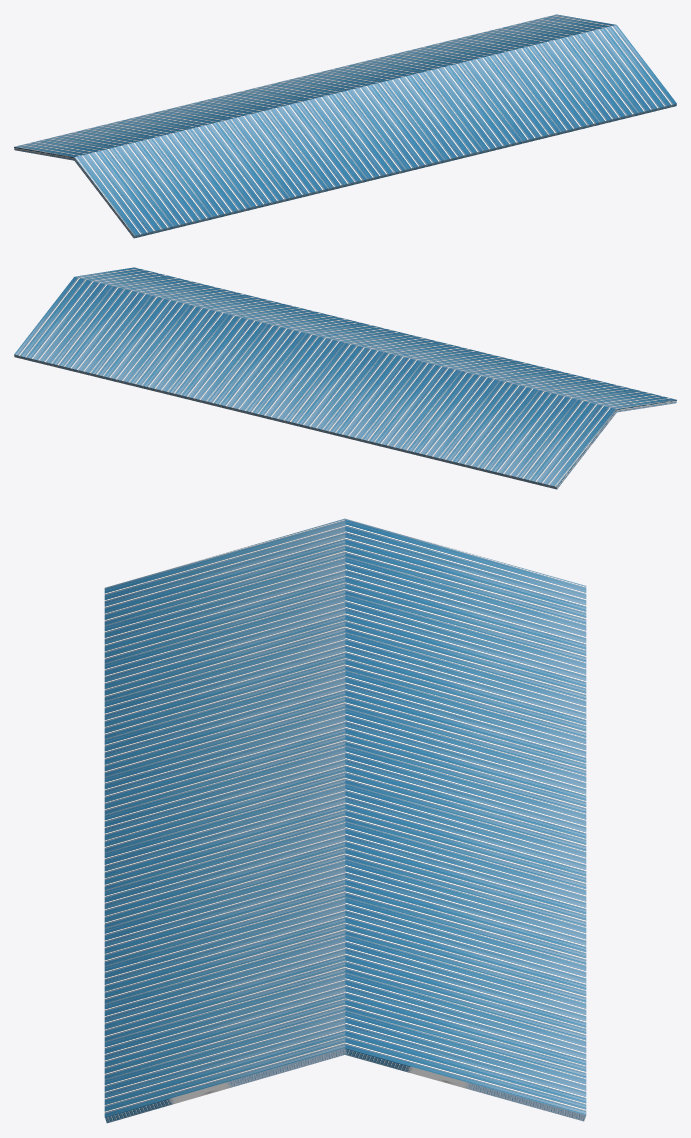
Rendered from Roof.fbx.
3 views of the same model, one above another, from view 1: azimuth 30°, elevation 25°; view 2: azimuth 150°, elevation 25°; view 3: azimuth 270°, elevation 25° (orthographic). The views are drawn at different scales.
Parts seen in each view (by area): view 1: pCube242; view 2: pCube242; view 3: pCube242.
Boxes of the visible parts, x1,y1,x2,y2 form: pCube242: [14, 14, 676, 238]; pCube242: [14, 267, 676, 489]; pCube242: [104, 518, 586, 1123].
Bounding box in the file's own units: 417 × 27.69 × 160.
